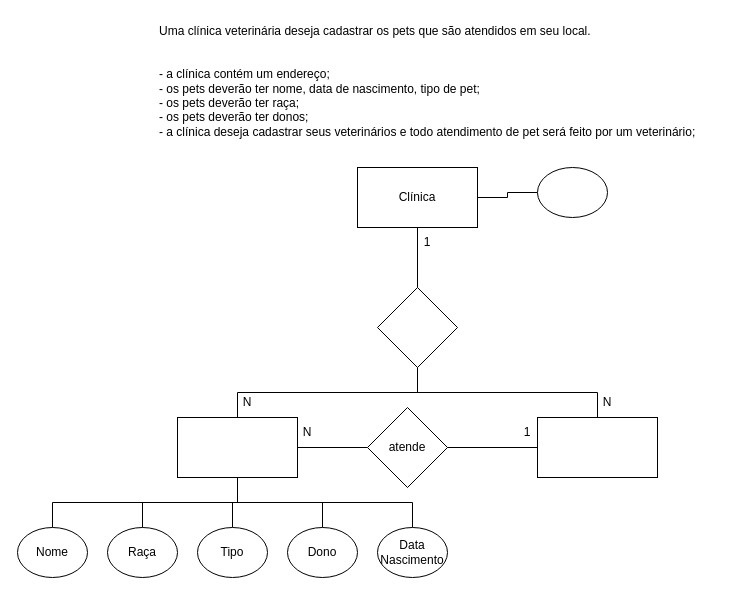
Image size: 735x595. Some labels were removed from this diagram. Each missing label, with the centre of its shape:
Endereço: point (572, 192)
Pets: point (237, 447)
possui: point (417, 327)
Veterinário: point (597, 447)
